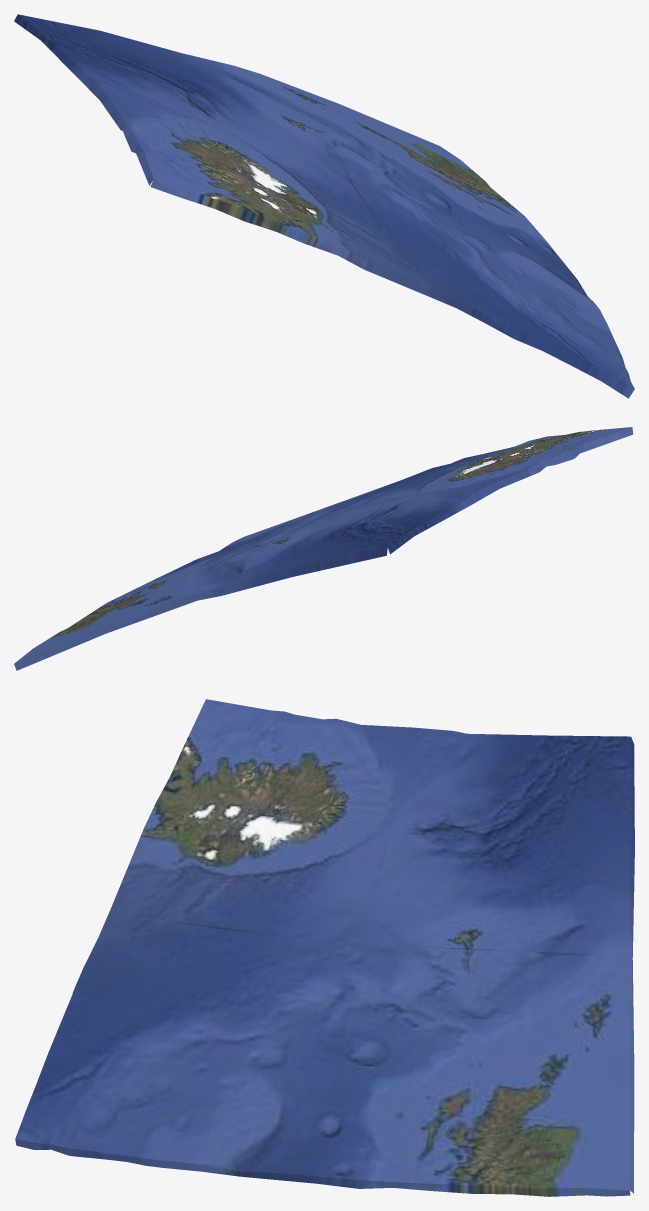
3 views of the same model, one above another, from view 1: azimuth 30°, elevation 25°; view 2: azimuth 150°, elevation 25°; view 3: azimuth 270°, elevation 25° (orthographic). The views are drawn at different scales.
Bounding box in the file's own units: 1306232 × 620633 × 1376308.
1 material, 1 textured.
